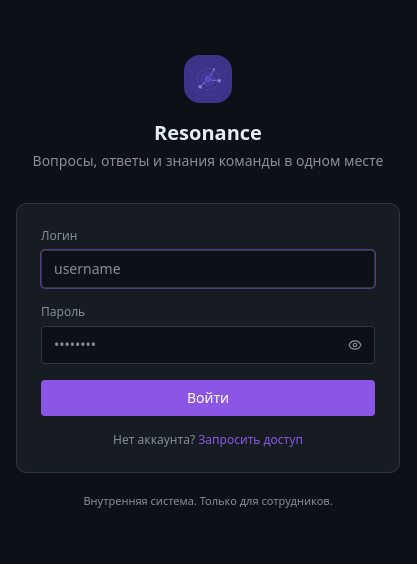
Test: LoginPage › shows a validation warning when login or password fails format checks
The width and height of the screenshot is (417, 564).
Type "ab" into the field with test id "input-username" at [208, 269], box [41,250,375,288]
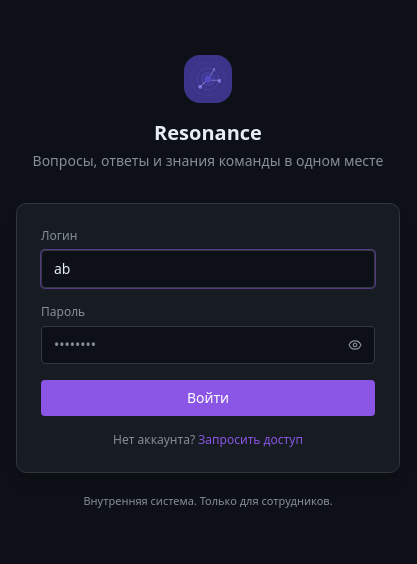
Type "secret1" into the password field with test id "input-password" at [208, 345], box [41,326,375,364]
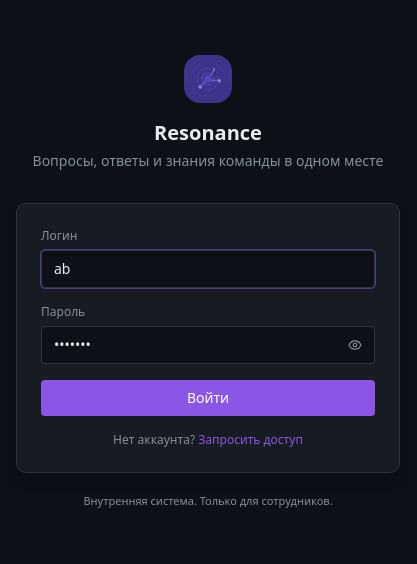
Click the button with test id "button-login" at [208, 398], box [41,380,375,416]
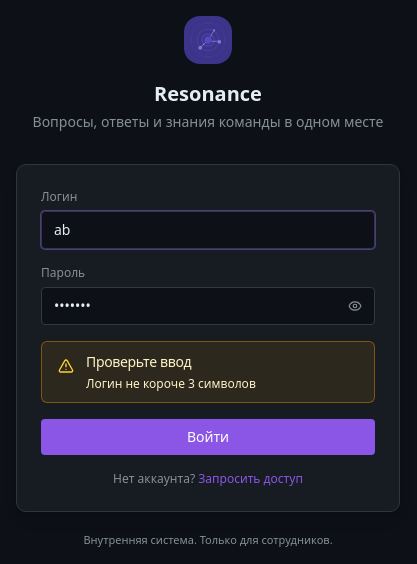
Check: the message "Проверьте ввод Логин не короче 3 символов" is shown, box [41,341,375,403]
Check: the message with test id "alert-validation" shows "Логин не короче", box [86,375,256,392]
